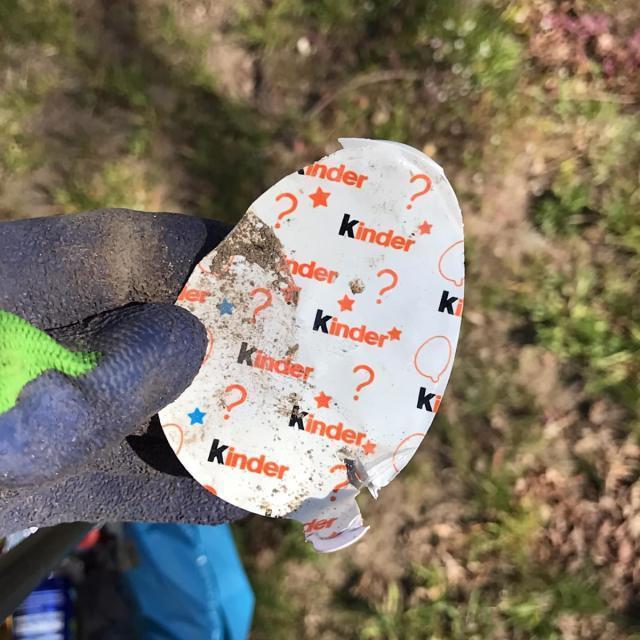Paper: (154, 132, 468, 557)
